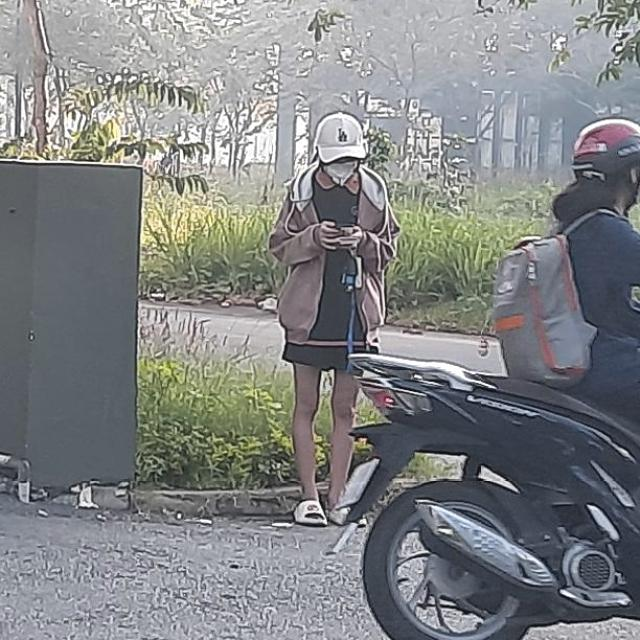Helmet: (573, 113, 640, 199)
